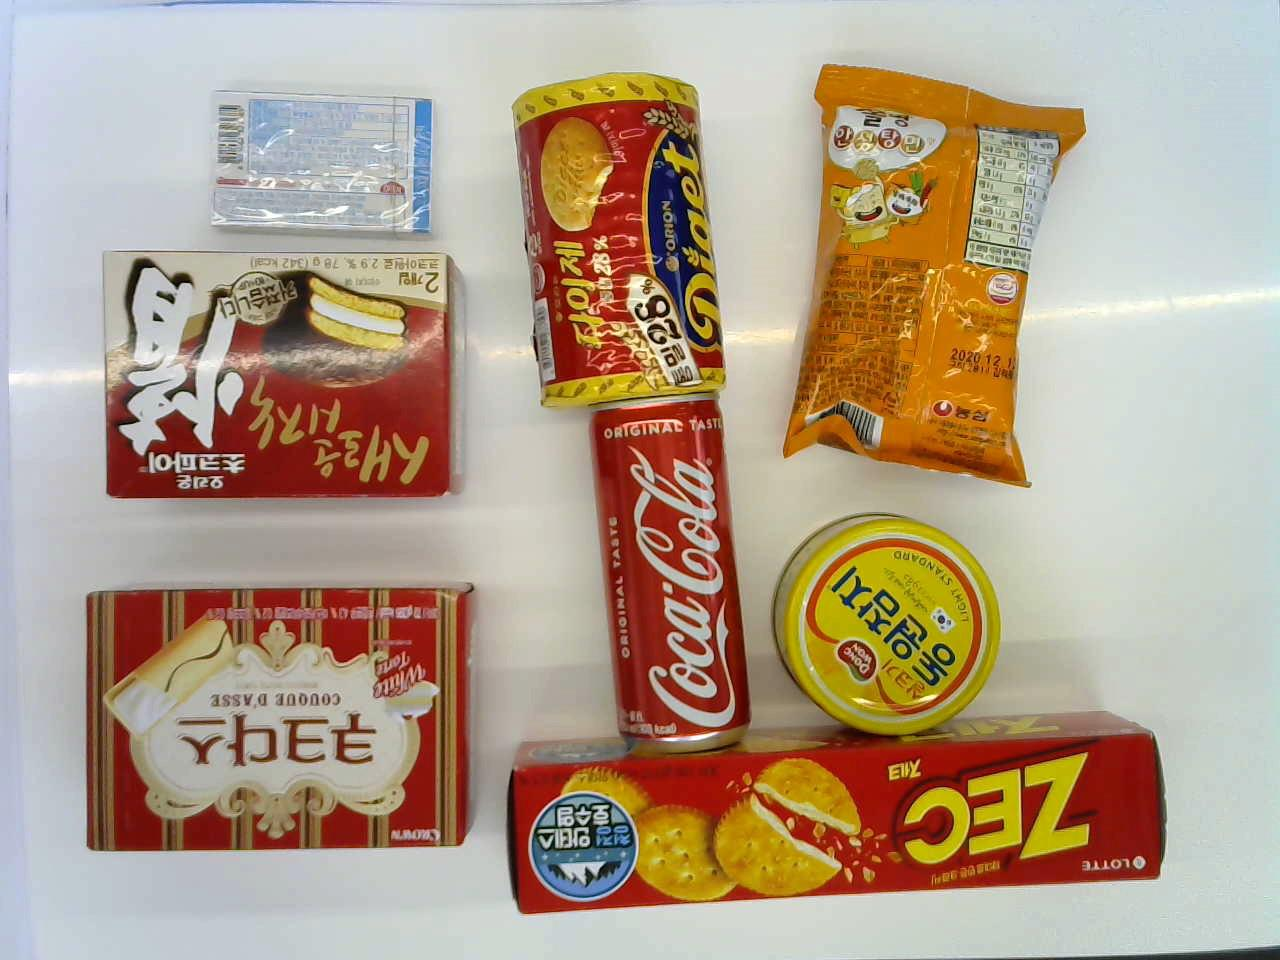ID_gum: (201, 73, 434, 241)
chocopie: (95, 246, 470, 511)
coke: (592, 386, 749, 750)
couque_white: (86, 580, 482, 852)
diget_ori: (513, 69, 724, 394)
jjolbyung_noodle: (777, 57, 1065, 497)
tuna: (775, 512, 1001, 731)
zec: (497, 733, 1189, 927)
